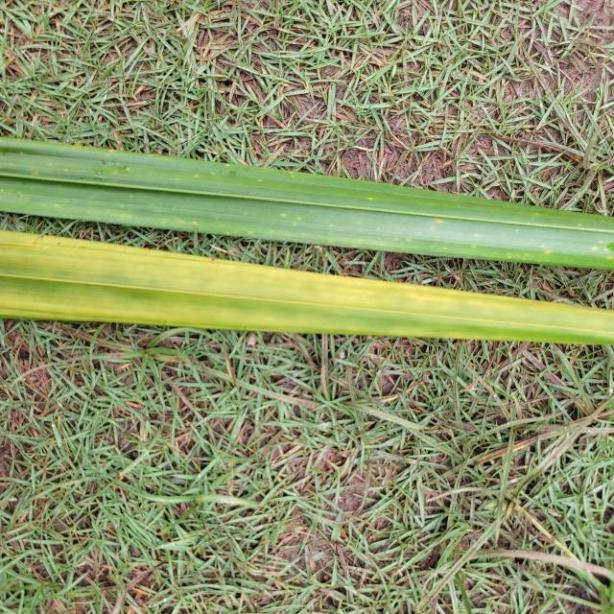nitrogen: (0, 136, 614, 273), (0, 228, 614, 344)
